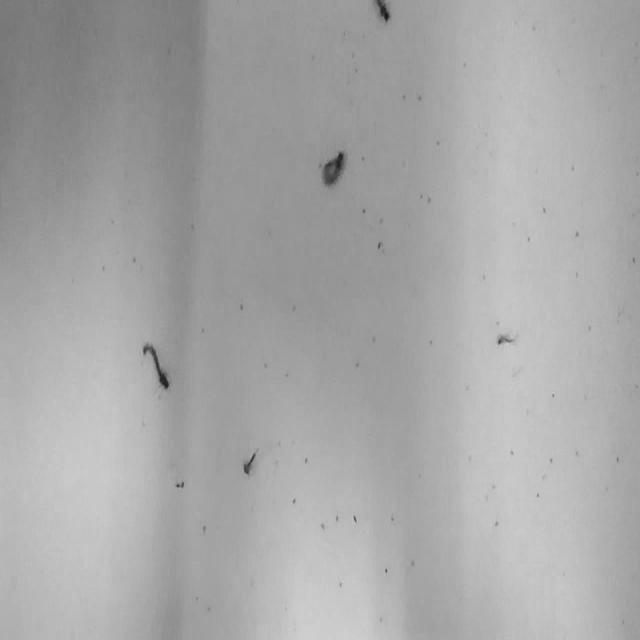larvas: (143, 344, 170, 388), (321, 150, 343, 184), (242, 448, 258, 476), (374, 0, 393, 22), (496, 332, 516, 345)
